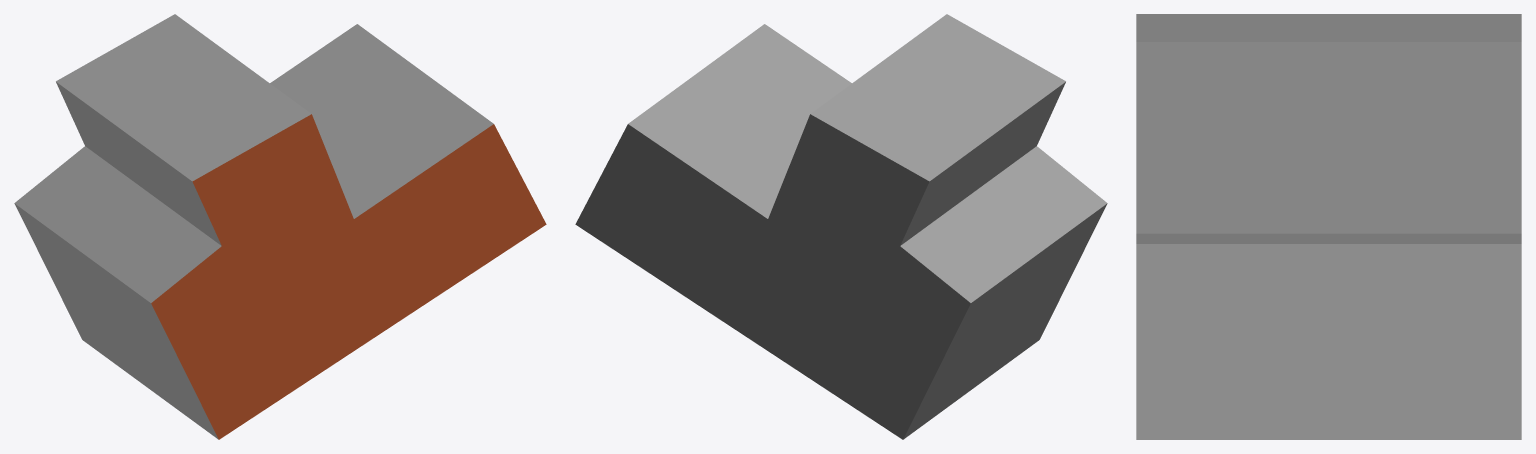
The model's file is construction_0302_assumed_A_Casa_h6m.obj.
3 views of the same model, side by side, from view 1: azimuth 30°, elevation 25°; view 2: azimuth 150°, elevation 25°; view 3: azimuth 270°, elevation 25° (orthographic). The views are drawn at different scales.
Visible parts, largest first — view 1: construction_0302_assumed_A_Casa; view 2: construction_0302_assumed_A_Casa; view 3: construction_0302_assumed_A_Casa.
Boxes of the visible parts, <box> form: construction_0302_assumed_A_Casa: <box>14,14,546,439</box>; construction_0302_assumed_A_Casa: <box>575,14,1107,439</box>; construction_0302_assumed_A_Casa: <box>1136,14,1521,439</box>.
Bounding box in the file's own units: 10.02 × 7.34 × 6.
